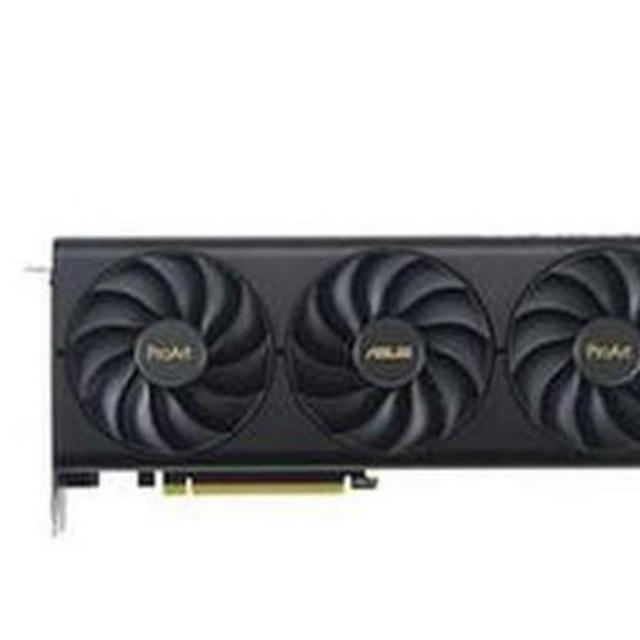GPU: (38, 238, 640, 500)
